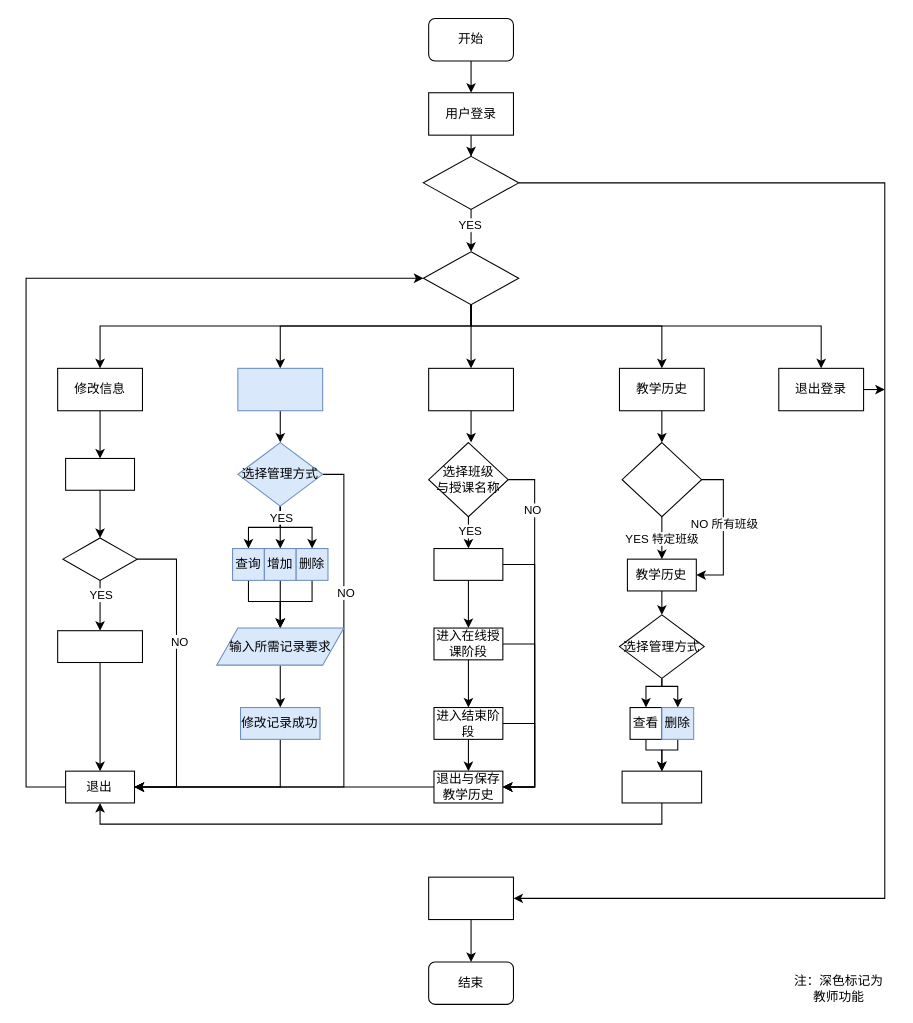
Image size: 913x1023. Some labels were removed from this diagram. Each missing label, with the centre of its shape:
"在线教学" goes at point 470,389.
"是否合法？" goes at point 470,182.
"更新个人信息" goes at point 99,646.
"用户注销" goes at point 470,898.
"确认" goes at point 99,558.
"管理历史成功" goes at point 661,786.
"管理学生" goes at point 280,389.
"输入信息" goes at point 100,473.
"进入准备阶段" goes at point 468,563.
"选择" goes at point 470,278.
"选择班级" goes at point 661,479.
